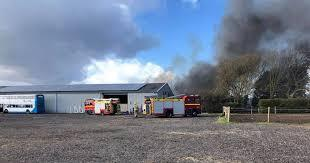smoke: (18, 5, 120, 78), (228, 11, 304, 49)
